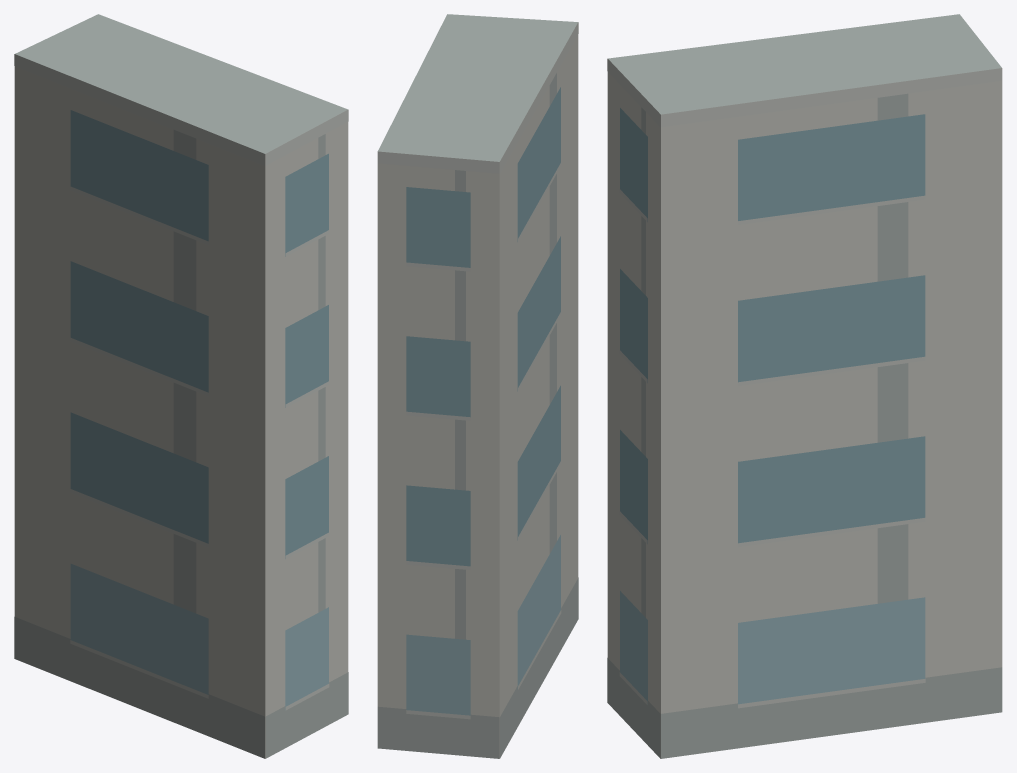
The model's file is survey-upis-32645565.glb.
3 renders of one model, left to right at view 1: azimuth 30°, elevation 25°; view 2: azimuth 150°, elevation 25°; view 3: azimuth 270°, elevation 25°, orthographic. The views are drawn at different scales.
Parts seen in each view (by area): view 1: survey-upis-32645565.tmp; view 2: survey-upis-32645565.tmp; view 3: survey-upis-32645565.tmp.
Part boxes in pixels (x1,y1,x2,y2): survey-upis-32645565.tmp: [14, 14, 348, 758]; survey-upis-32645565.tmp: [377, 14, 578, 758]; survey-upis-32645565.tmp: [607, 14, 1002, 758].
Size of the model in its own units: 4.09 by 12.2 by 6.78.
